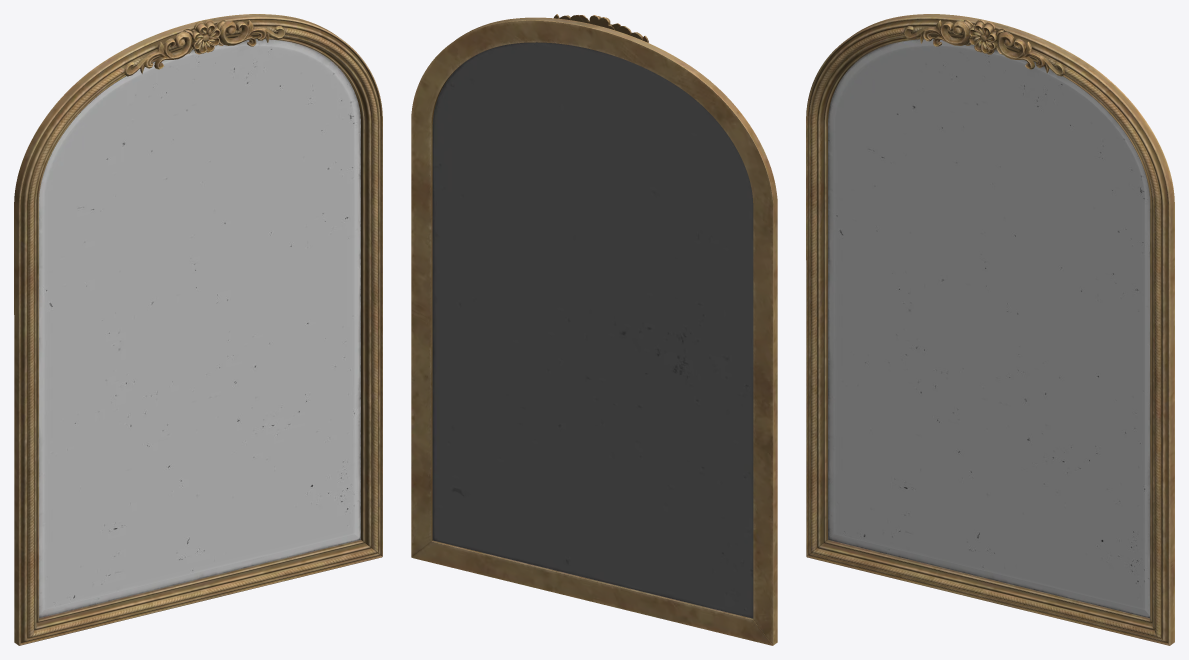
The model's file is mirror.glb.
3 views of the same model, side by side, from view 1: azimuth 30°, elevation 25°; view 2: azimuth 150°, elevation 25°; view 3: azimuth 330°, elevation 25° (orthographic).
Parts seen in each view (by area): view 1: ornate_mirror_01; view 2: ornate_mirror_01; view 3: ornate_mirror_01.
Boxes of the visible parts, x1,y1,x2,y2 form: ornate_mirror_01: [14, 14, 382, 645]; ornate_mirror_01: [411, 14, 777, 645]; ornate_mirror_01: [806, 14, 1174, 645].
Bounding box in the file's own units: 0.6 × 0.9178 × 0.032.
Materials: 1 (1 with a texture image).
